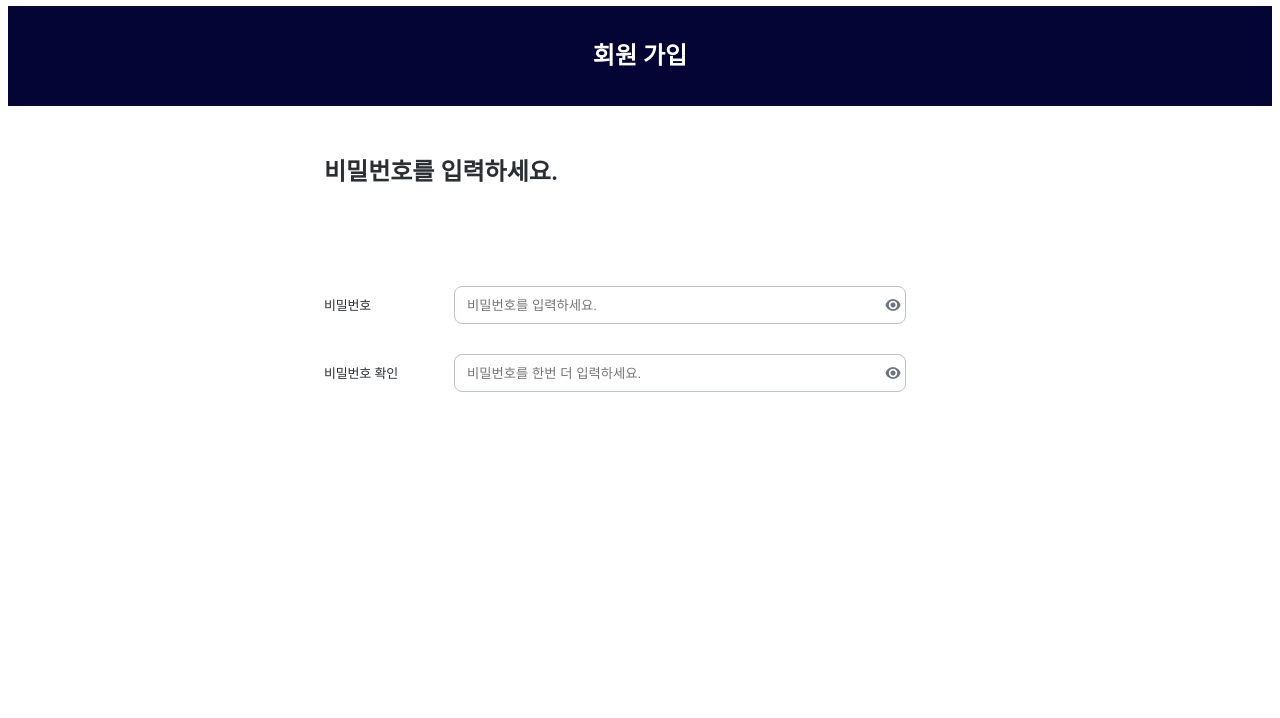
it: 회원가입 5페이지 › 패스워드 입력 › 패스워드 입력 후 다음 페이지 이동
Type "qwer1234@" into the password field with test id "password-input".
click(664, 305); type("qwer1234@")  # box [465,295,863,315]
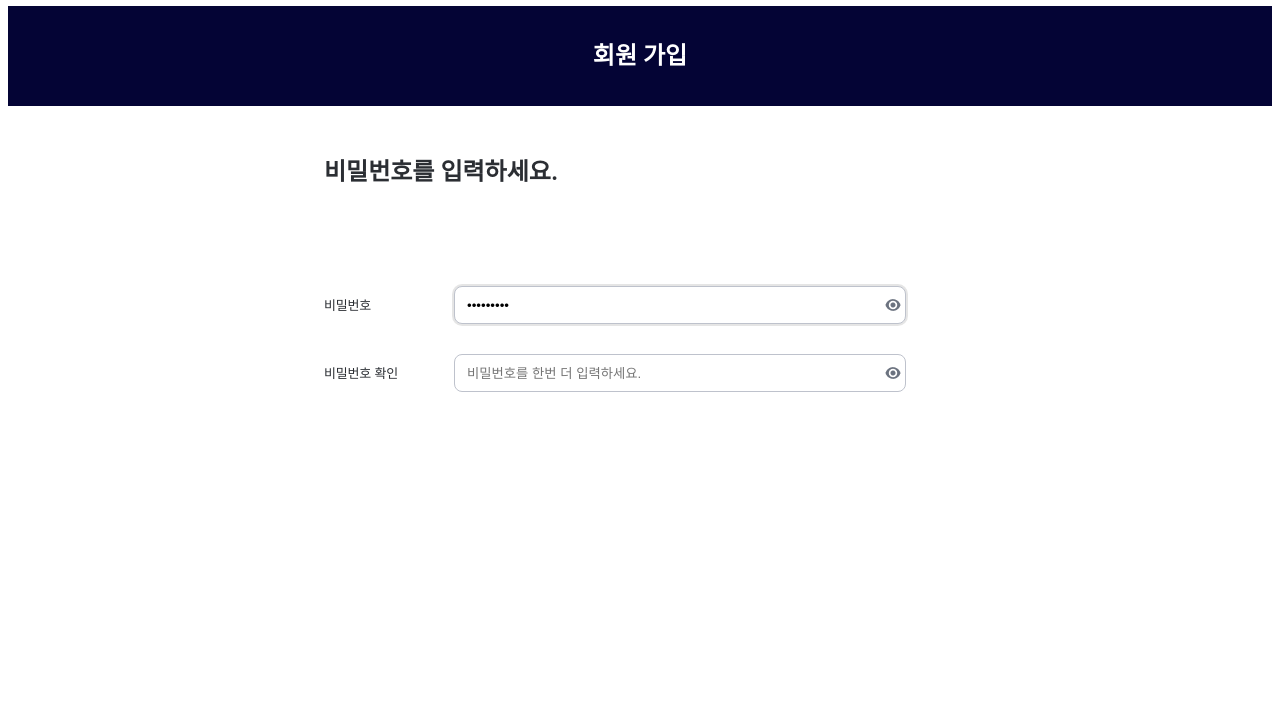
Type "qwer1234@" into the password field with test id "password2-input".
click(664, 373); type("qwer1234@")  # box [465,363,863,383]
(page scrolled)
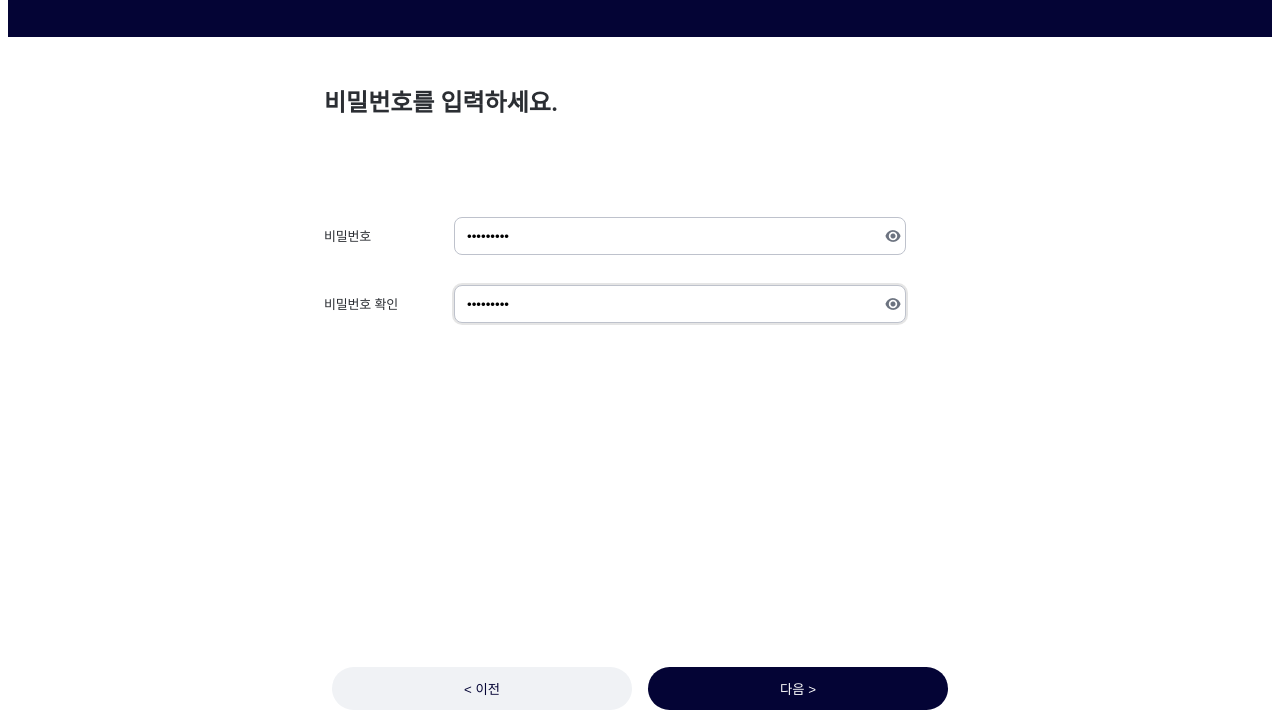
Click the button with test id "next-button".
click(798, 688)  # box [648,667,948,710]
(page scrolled)
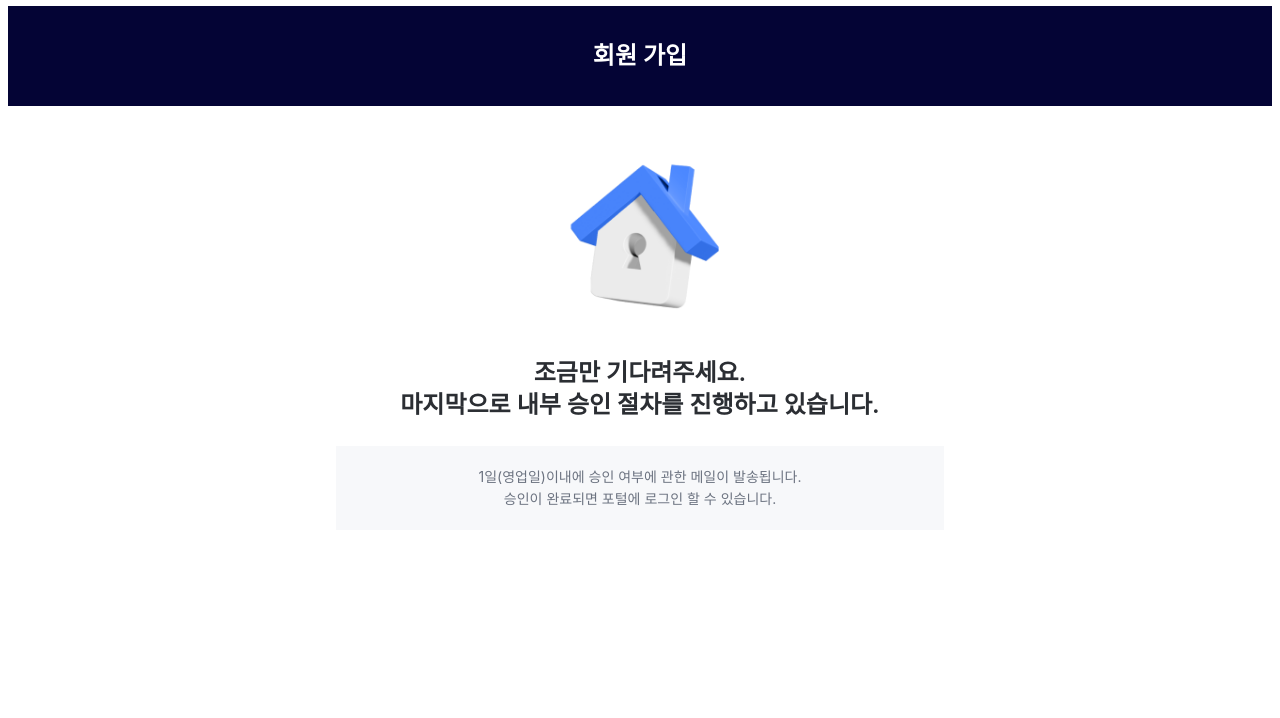
Check: the element with test id "chapter-title-6" is shown, box [324,106,956,556]
